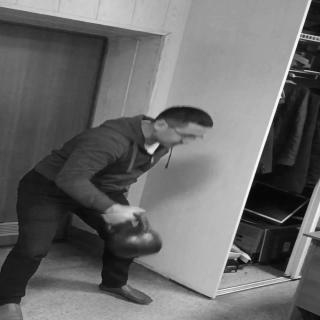kettlebell: (104, 212, 165, 260)
